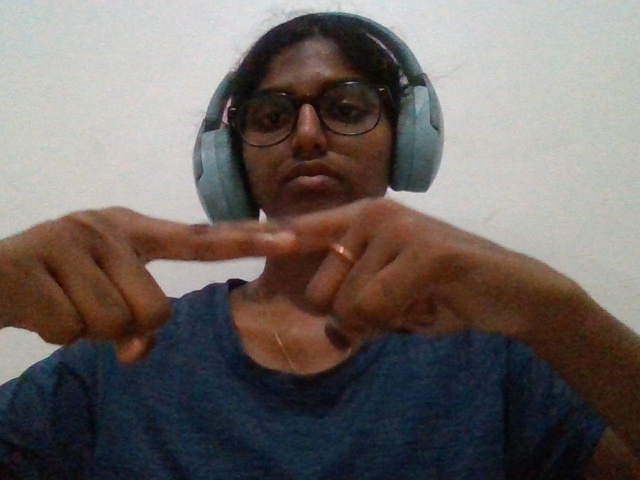Sign: (6, 181, 563, 392)
